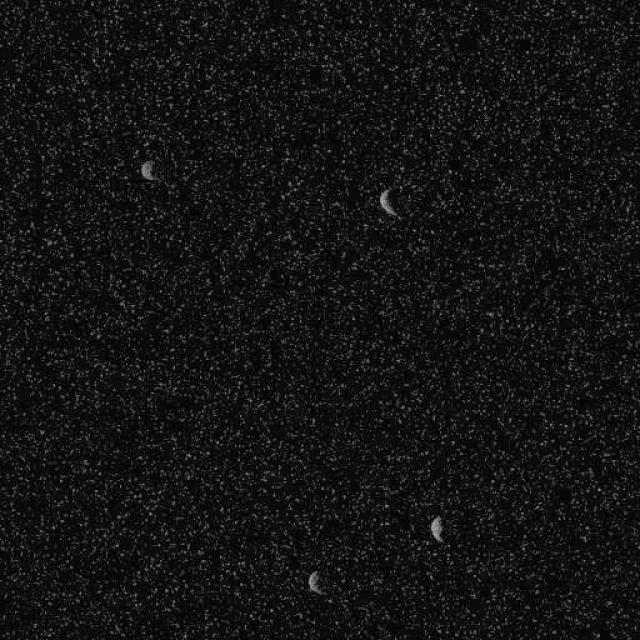D2: (378, 186, 398, 218), (306, 569, 325, 596), (428, 515, 444, 544), (139, 159, 156, 181)
